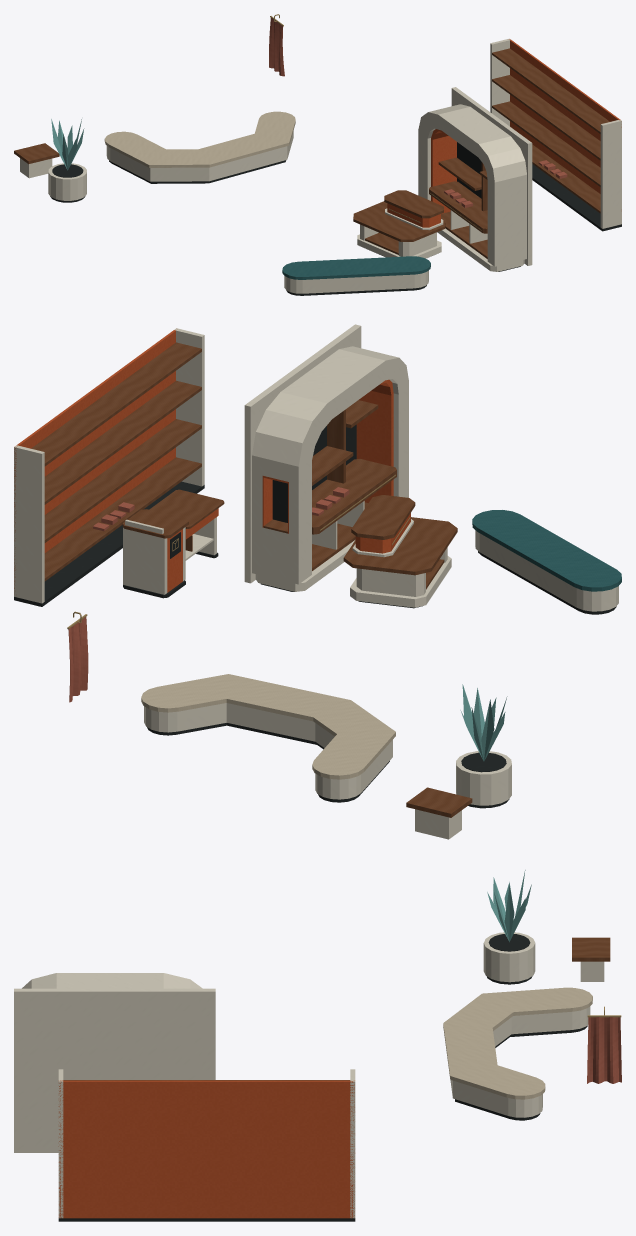
The model's file is SHOP_D09_P72_A106__fitout.glb.
The picture shows the model from 3 angles, top to bottom: view 1: azimuth 30°, elevation 25°; view 2: azimuth 150°, elevation 25°; view 3: azimuth 270°, elevation 25°; orthographic projection. The views are drawn at different scales.
Parts seen in each view (by area): view 1: SHOP_D09_P72_A106__fitout__ivory_enamel, SHOP_D09_P72_A106__fitout__warm_walnut, SHOP_D09_P72_A106__fitout__retail_terracotta_enamel, SHOP_D09_P72_A106__fitout__oatmeal_weave, SHOP_D09_P72_A106__fitout__dark_rubber, SHOP_D09_P72_A106__fitout__teal_weave, SHOP_D09_P72_A106__fitout__clay_weave, SHOP_D09_P72_A106__fitout__quiet_teal; view 2: SHOP_D09_P72_A106__fitout__ivory_enamel, SHOP_D09_P72_A106__fitout__warm_walnut, SHOP_D09_P72_A106__fitout__retail_terracotta_enamel, SHOP_D09_P72_A106__fitout__oatmeal_weave, SHOP_D09_P72_A106__fitout__dark_rubber, SHOP_D09_P72_A106__fitout__teal_weave, SHOP_D09_P72_A106__fitout__clay_weave, SHOP_D09_P72_A106__fitout__quiet_teal; view 3: SHOP_D09_P72_A106__fitout__retail_terracotta_enamel, SHOP_D09_P72_A106__fitout__ivory_enamel, SHOP_D09_P72_A106__fitout__oatmeal_weave, SHOP_D09_P72_A106__fitout__dark_rubber, SHOP_D09_P72_A106__fitout__clay_weave, SHOP_D09_P72_A106__fitout__warm_walnut, SHOP_D09_P72_A106__fitout__quiet_teal.
Part boxes in pixels (x1,y1,x2,y2): SHOP_D09_P72_A106__fitout__ivory_enamel: [20, 38, 621, 293]; SHOP_D09_P72_A106__fitout__warm_walnut: [14, 48, 609, 258]; SHOP_D09_P72_A106__fitout__retail_terracotta_enamel: [387, 39, 621, 227]; SHOP_D09_P72_A106__fitout__oatmeal_weave: [104, 111, 295, 167]; SHOP_D09_P72_A106__fitout__dark_rubber: [50, 142, 621, 295]; SHOP_D09_P72_A106__fitout__teal_weave: [282, 256, 430, 279]; SHOP_D09_P72_A106__fitout__clay_weave: [269, 17, 567, 207]; SHOP_D09_P72_A106__fitout__quiet_teal: [51, 119, 84, 170]; SHOP_D09_P72_A106__fitout__ivory_enamel: [14, 324, 618, 839]; SHOP_D09_P72_A106__fitout__warm_walnut: [31, 342, 472, 817]; SHOP_D09_P72_A106__fitout__retail_terracotta_enamel: [14, 330, 410, 592]; SHOP_D09_P72_A106__fitout__oatmeal_weave: [141, 674, 395, 779]; SHOP_D09_P72_A106__fitout__dark_rubber: [14, 424, 616, 808]; SHOP_D09_P72_A106__fitout__teal_weave: [472, 510, 621, 591]; SHOP_D09_P72_A106__fitout__clay_weave: [68, 487, 349, 702]; SHOP_D09_P72_A106__fitout__quiet_teal: [460, 684, 507, 761]; SHOP_D09_P72_A106__fitout__retail_terracotta_enamel: [58, 1080, 355, 1218]; SHOP_D09_P72_A106__fitout__ivory_enamel: [14, 932, 604, 1218]; SHOP_D09_P72_A106__fitout__oatmeal_weave: [443, 987, 592, 1099]; SHOP_D09_P72_A106__fitout__dark_rubber: [58, 934, 587, 1221]; SHOP_D09_P72_A106__fitout__clay_weave: [587, 1017, 621, 1083]; SHOP_D09_P72_A106__fitout__warm_walnut: [63, 937, 610, 1080]; SHOP_D09_P72_A106__fitout__quiet_teal: [487, 870, 531, 941].
Size of the model in its own units: 10.28 by 3 by 10.25.
Materials: 9 (8 with a texture image).
